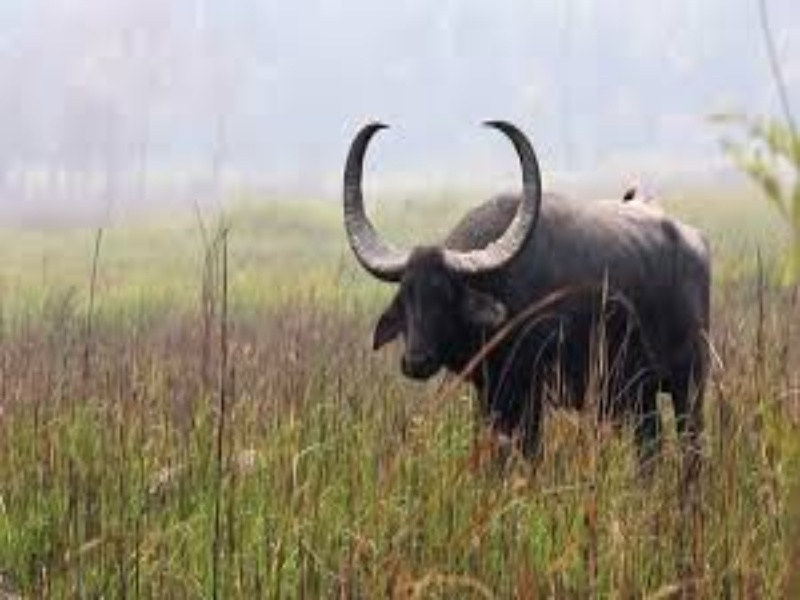buffalo: (337, 110, 753, 541)
